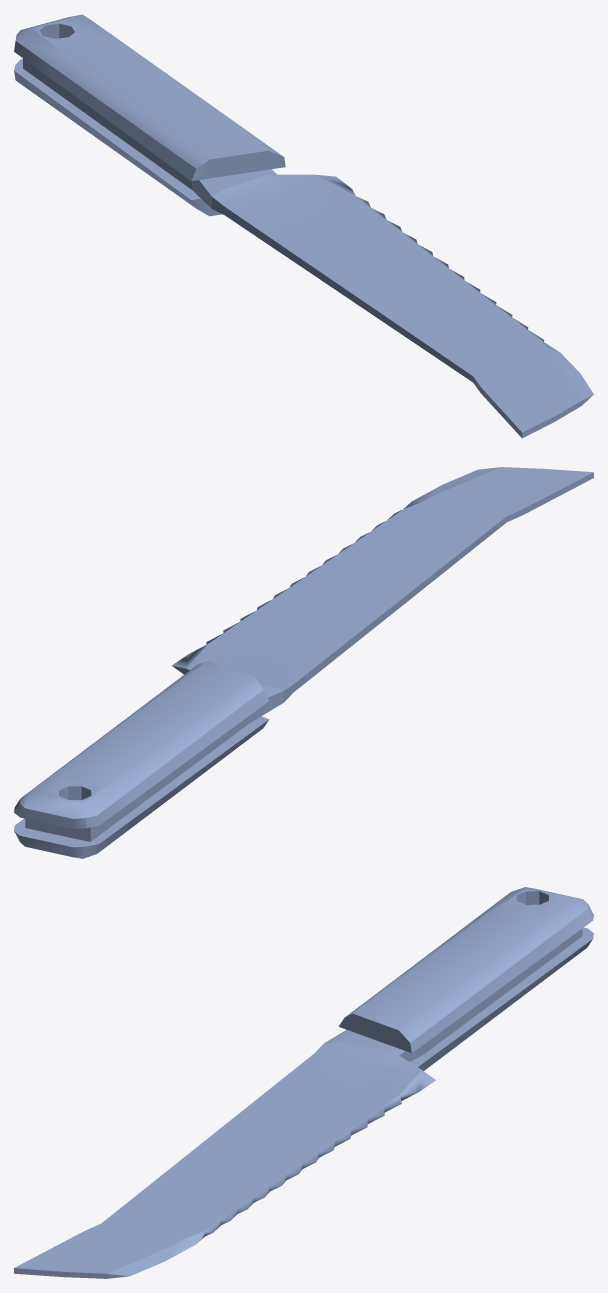
Rendered from Knife02.fbx.
The picture shows the model from 3 angles, top to bottom: view 1: azimuth 30°, elevation 25°; view 2: azimuth 150°, elevation 25°; view 3: azimuth 330°, elevation 25°; orthographic projection. The views are drawn at different scales.
Parts seen in each view (by area): view 1: Utensils01_Uv_v001:Knife02; view 2: Utensils01_Uv_v001:Knife02; view 3: Utensils01_Uv_v001:Knife02.
Boxes of the visible parts, x1,y1,x2,y2 form: Utensils01_Uv_v001:Knife02: [14, 14, 593, 438]; Utensils01_Uv_v001:Knife02: [14, 467, 593, 858]; Utensils01_Uv_v001:Knife02: [14, 887, 593, 1278].
Bounding box in the file's own units: 6.59 × 2.84 × 47.38.
1 material, 1 textured.
